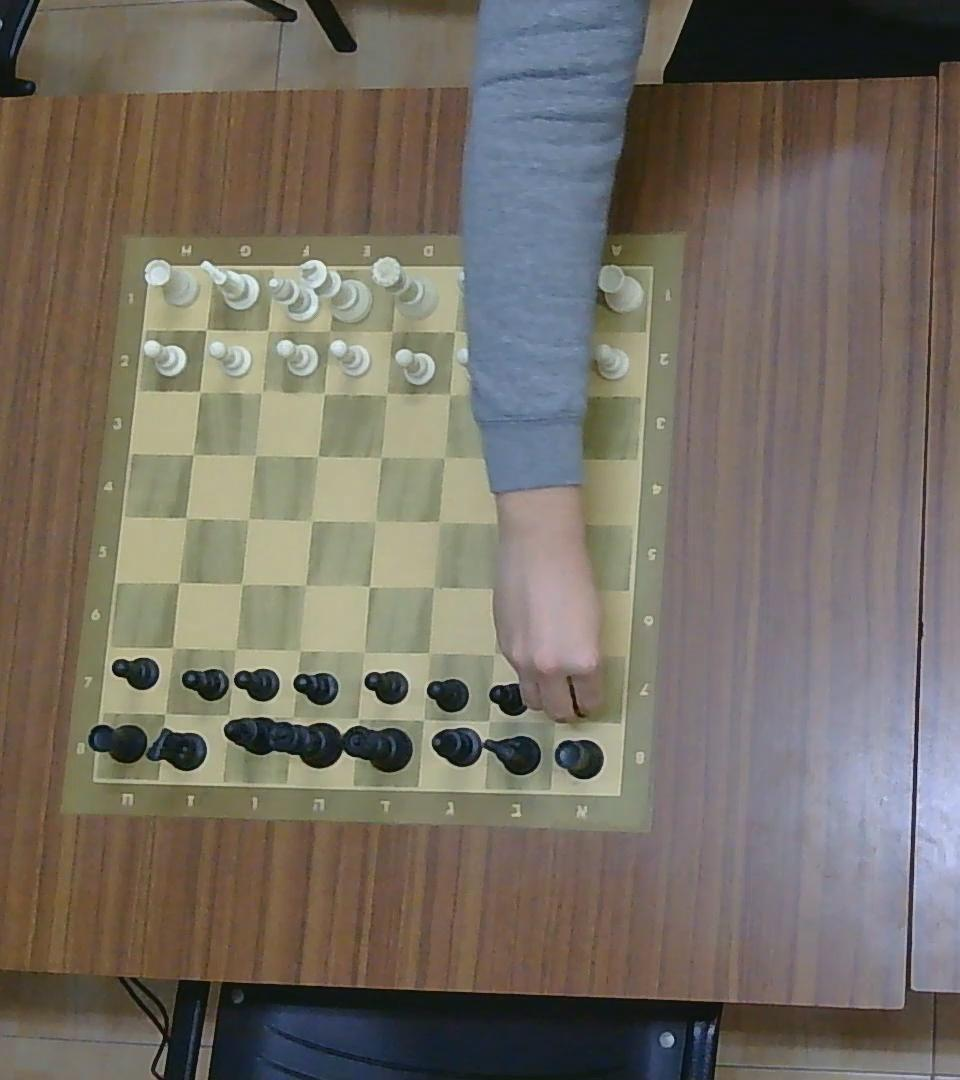xcorner: (547, 443, 576, 474), (506, 317, 533, 347), (492, 444, 519, 473), (342, 706, 369, 734), (474, 706, 501, 734), (502, 378, 528, 407), (547, 510, 573, 539), (562, 377, 586, 408), (216, 701, 241, 729), (549, 576, 574, 604), (569, 316, 593, 345), (153, 700, 179, 726), (411, 705, 436, 732), (443, 317, 468, 344), (379, 317, 404, 344), (483, 575, 508, 602), (416, 640, 442, 665), (481, 640, 506, 665), (362, 508, 386, 534), (426, 508, 450, 534), (541, 707, 565, 733), (278, 708, 303, 732), (420, 574, 444, 599), (318, 316, 342, 341), (489, 510, 513, 535), (548, 641, 571, 667), (438, 381, 462, 405), (358, 573, 381, 597), (305, 443, 328, 467), (287, 637, 310, 661), (352, 639, 375, 663), (174, 506, 197, 529), (167, 570, 190, 593), (194, 317, 217, 340), (162, 636, 185, 659), (243, 442, 265, 465), (181, 442, 203, 465), (230, 572, 252, 595), (433, 446, 455, 468), (294, 574, 315, 596), (237, 508, 258, 530), (371, 446, 392, 468), (257, 319, 278, 341), (375, 382, 396, 404), (314, 382, 334, 404), (301, 508, 321, 530), (189, 379, 209, 400), (251, 381, 272, 401), (225, 637, 245, 658)
